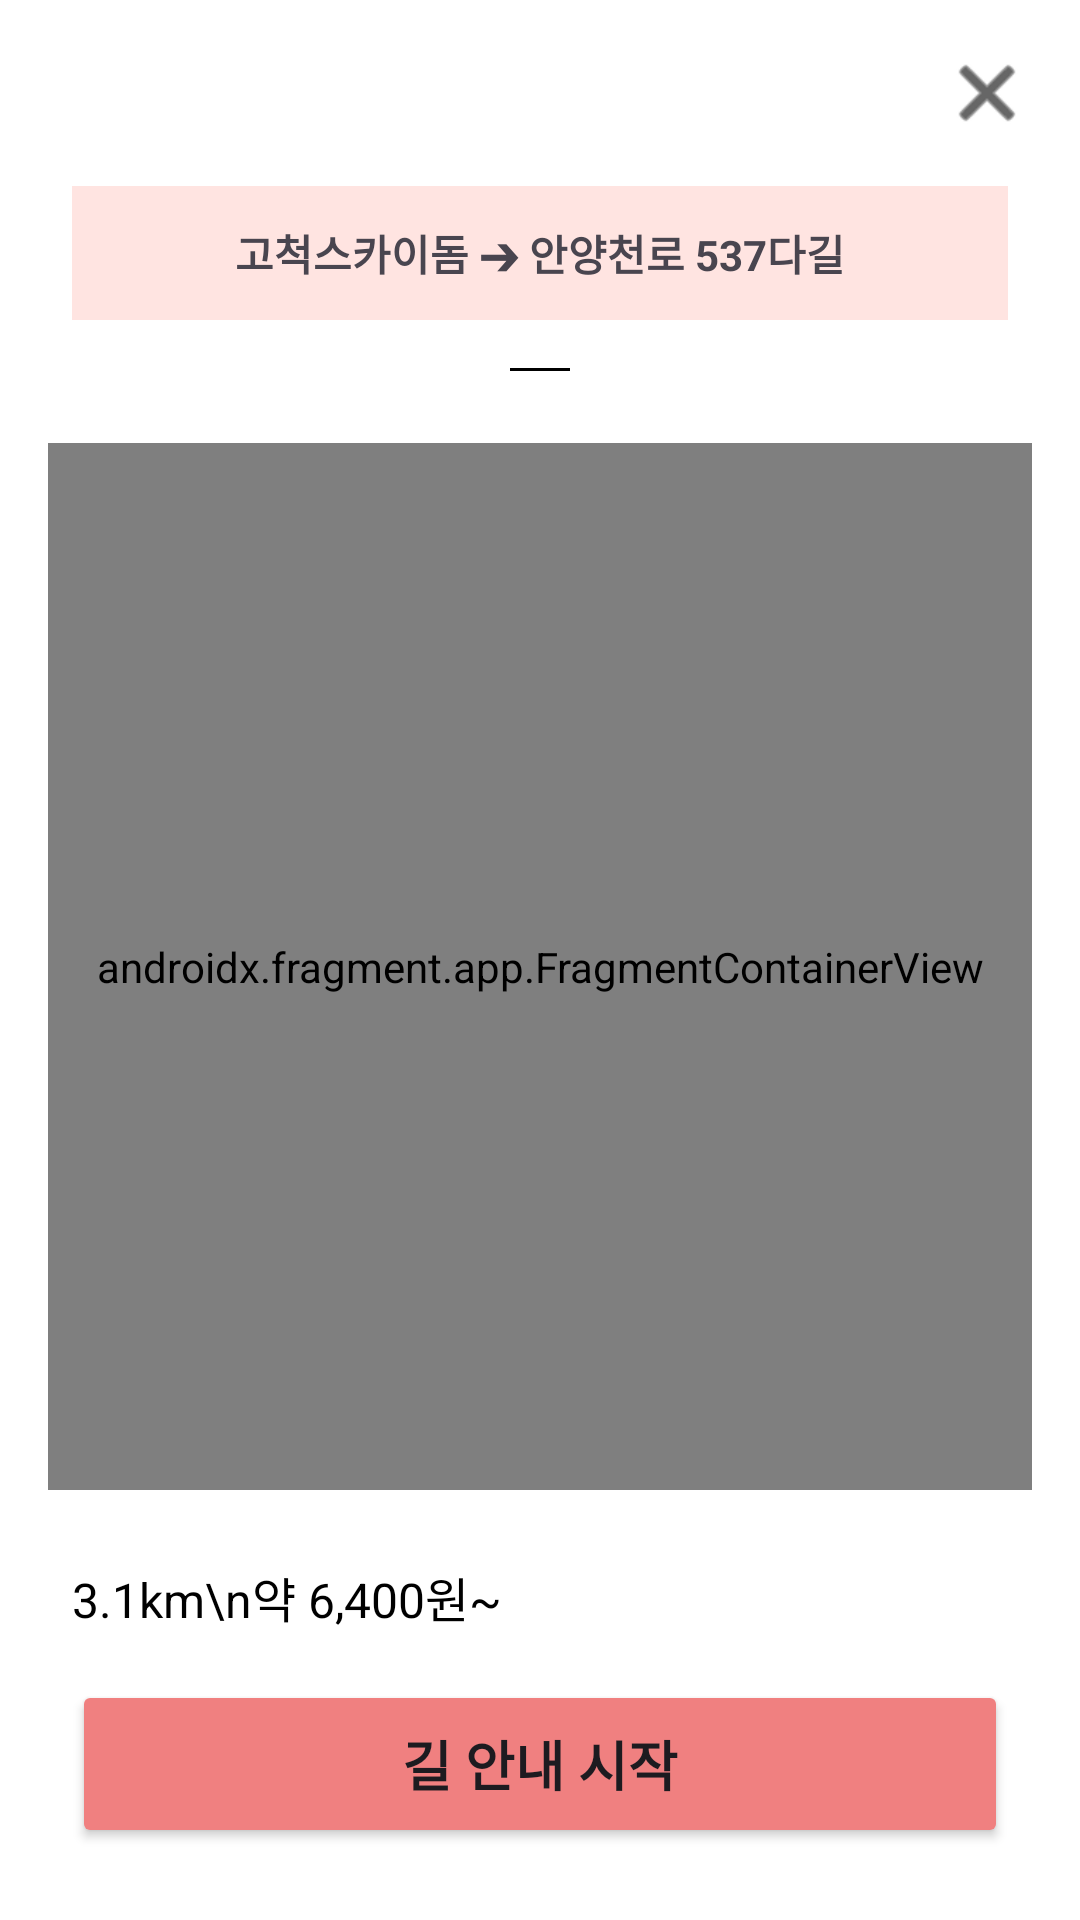

Icon click points for this 1080px×1920px phone screenshot, format point (x, y):
close clear cancel: point (987, 93)
